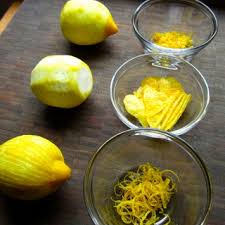lemon: (1, 132, 75, 192)
